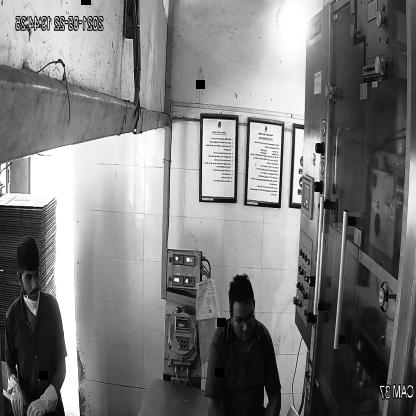goggles: (230, 308, 258, 331)
no_goggles: (20, 266, 42, 285)
